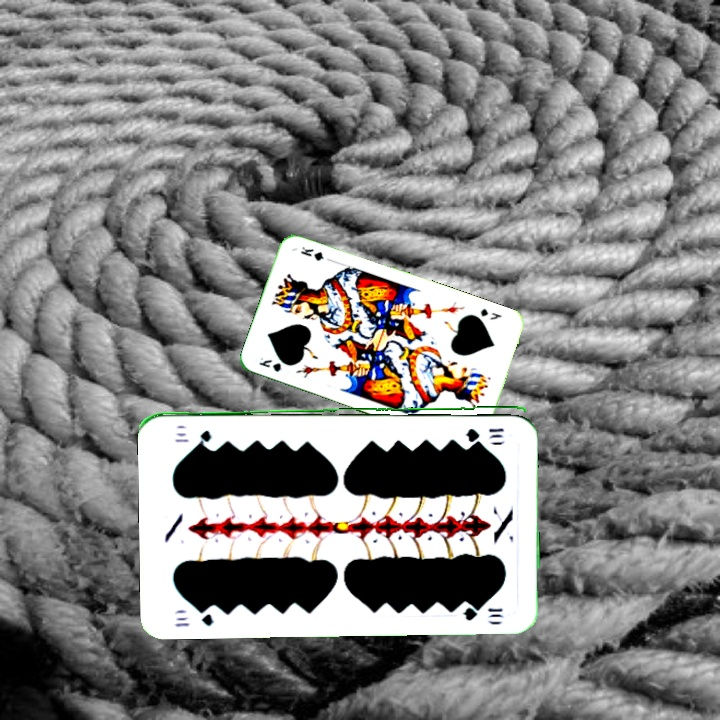G10: (171, 603, 216, 630), (462, 424, 506, 441)
GK: (255, 353, 284, 374), (476, 304, 504, 322)
